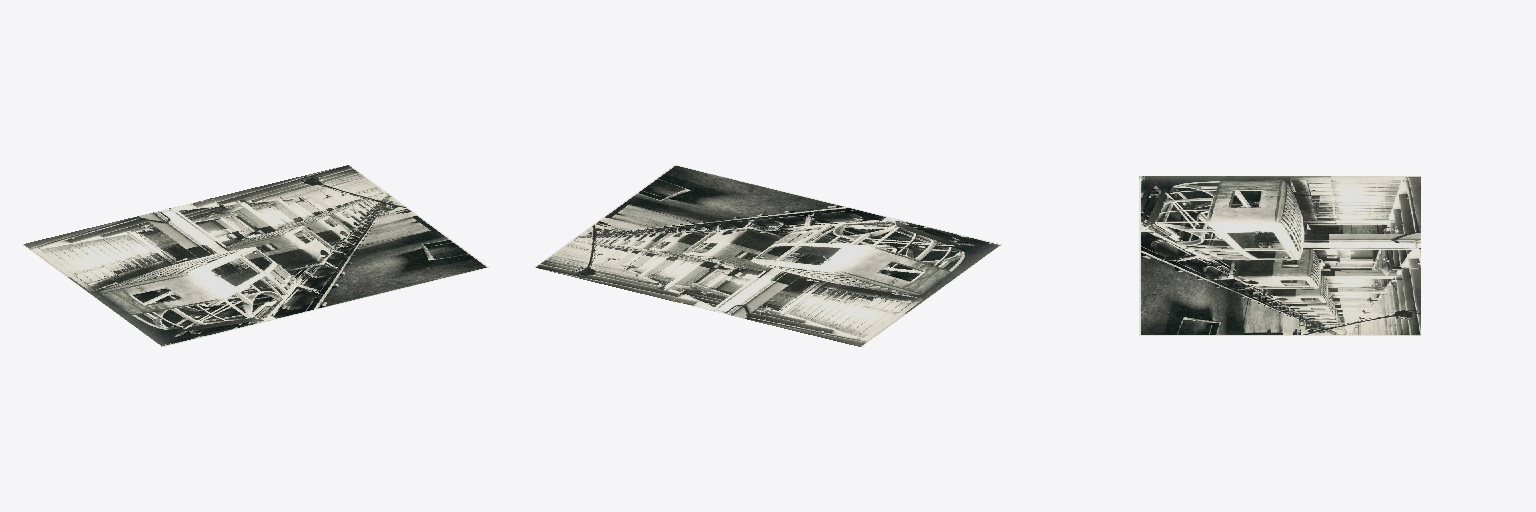
3 views of the same model, side by side, from view 1: azimuth 30°, elevation 25°; view 2: azimuth 150°, elevation 25°; view 3: azimuth 270°, elevation 25° (orthographic).
Visible parts, largest first — view 1: Plane001; view 2: Plane001; view 3: Plane001.
Part boxes in pixels (left/top/right/bottom): Plane001: left=22, top=165, right=489, bottom=346; Plane001: left=534, top=165, right=1001, bottom=346; Plane001: left=1139, top=176, right=1420, bottom=335.
Size of the model in its own units: 2.23 by 0 by 1.66.
Materials: 1 (1 with a texture image).